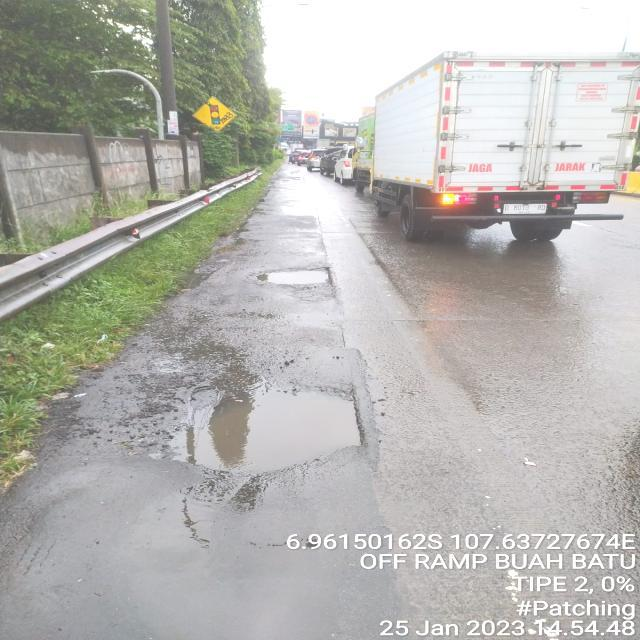Buraco: (148, 367, 370, 486), (242, 264, 334, 292)
